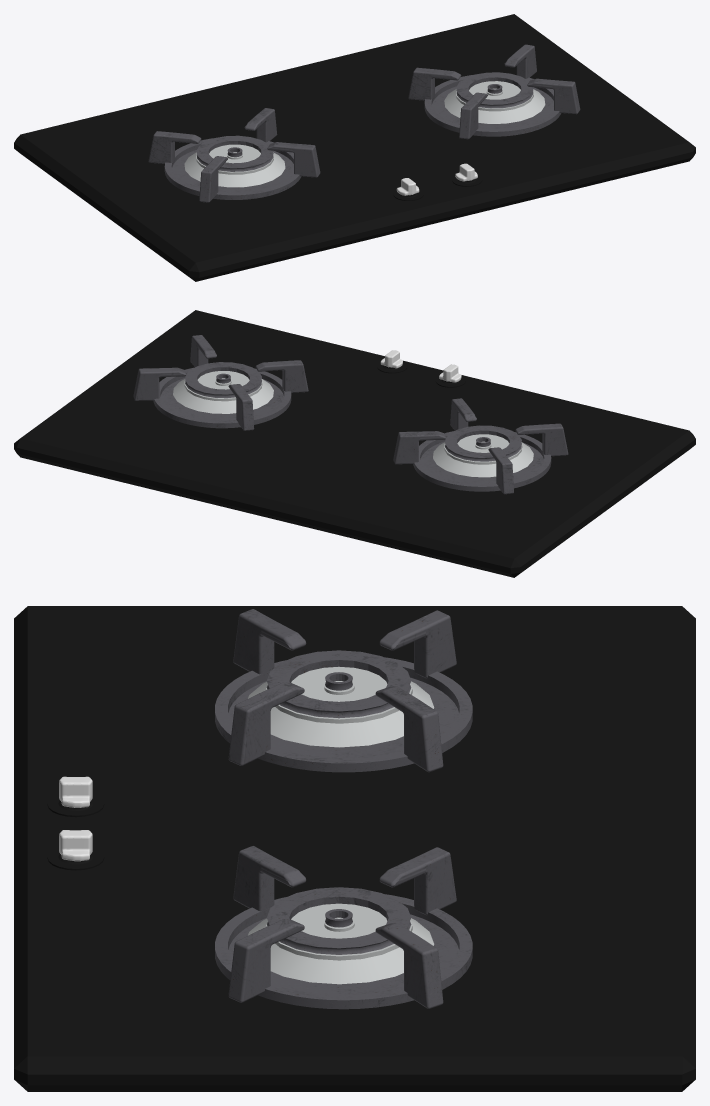
File: Gas_Stove.fbx
3 views of the same model, one above another, from view 1: azimuth 30°, elevation 25°; view 2: azimuth 150°, elevation 25°; view 3: azimuth 270°, elevation 25° (orthographic). The views are drawn at different scales.
Parts seen in each view (by area): view 1: pasted__pCube8, pCylinder2, pCylinder8, pCylinder12, pCylinder4, pCylinder5, pCylinder10, pCube7, pCube2, pCube3, pCube9, pCube1 (+3 smaller); view 2: pasted__pCube8, pCylinder2, pCylinder8, pCylinder12, pCylinder4, pCylinder10, pCylinder5, pCube10, pCube4, pCube1, pCube8, pCube3 (+3 smaller); view 3: pasted__pCube8, pCylinder8, pCylinder2, pCylinder12, pCylinder4, pCylinder10, pCylinder5, pCube2, pCube7, pCube3, pCube9, pCube10 (+5 smaller).
Part boxes in pixels (x1,y1,x2,y2): pasted__pCube8: (14,14,695,281); pCylinder2: (424,75,561,136); pCylinder8: (164,138,301,199); pCylinder12: (184,144,285,187); pCylinder4: (444,81,545,123); pCylinder5: (456,72,533,108); pCylinder10: (196,135,273,171); pCube7: (267,142,320,177); pCube2: (527,78,580,114); pCube3: (408,67,461,100); pCube9: (148,131,201,163); pCube1: (459,92,487,139); pasted__pCube8: (14,310,695,577); pCylinder2: (153,367,291,428); pCylinder8: (413,431,551,491); pCylinder12: (433,434,533,477); pCylinder4: (173,371,273,413); pCylinder10: (445,425,521,461); pCylinder5: (185,362,261,398); pCube10: (133,367,186,400); pCube4: (393,431,445,464); pCube1: (255,360,308,392); pCube8: (515,423,568,456); pCube3: (228,384,254,430); pasted__pCube8: (14,606,695,1091); pCylinder8: (215,657,472,772); pCylinder2: (215,894,472,1009); pCylinder12: (248,666,434,747); pCylinder4: (248,903,434,984); pCylinder10: (266,650,411,718); pCylinder5: (266,887,411,954); pCube2: (228,919,304,1002); pCube7: (228,682,304,765); pCube3: (379,847,456,915); pCube9: (379,610,456,678); pCube10: (375,923,443,1008).
Size of the model in its own units: 2.36 by 0.2242 by 1.47.
Materials: 5 (3 with a texture image).
